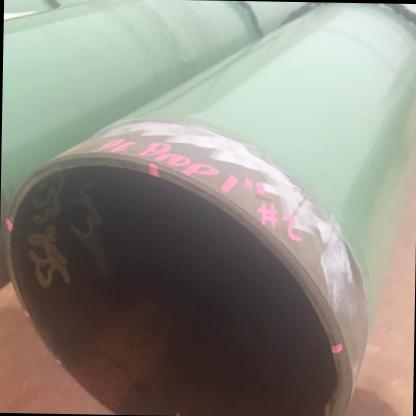Bevel: (251, 186, 271, 203)
